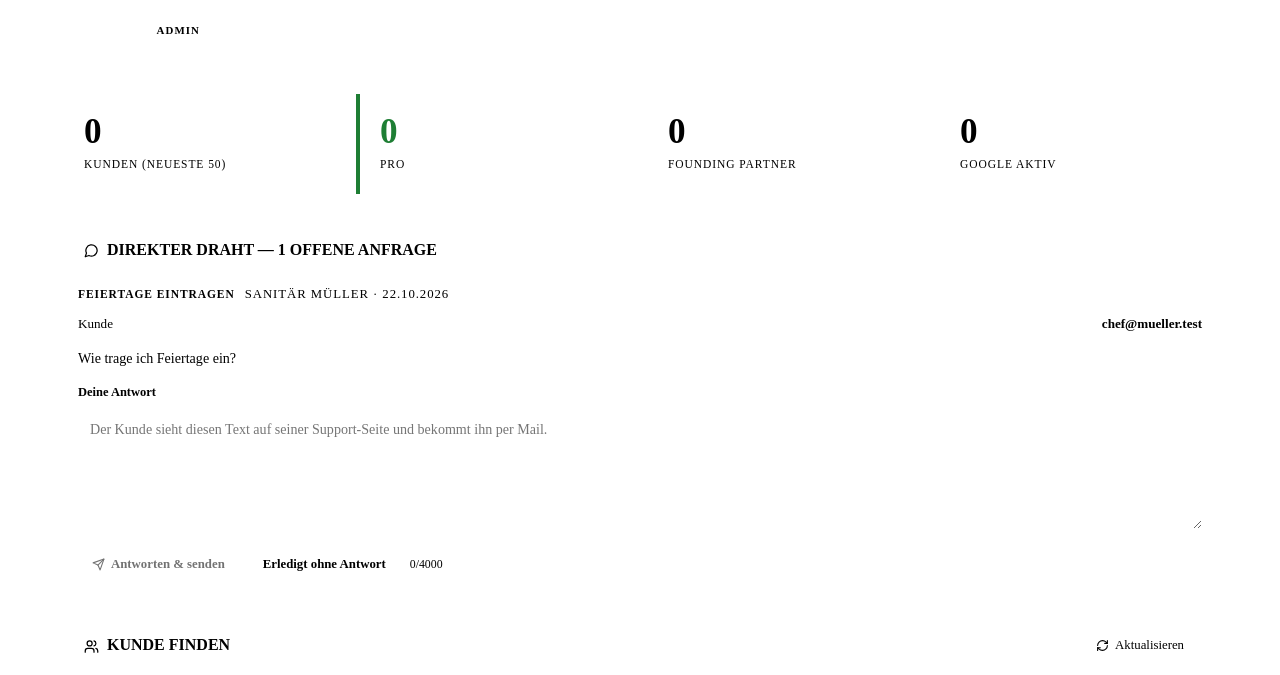
Test: Admin — Antwort auf Supportanfrage › lässt bei einem Fehler den Entwurf stehen und die Anfrage in "offen"
Expected: the element with test id "admin-support" is shown, [64,226,1216,596]
Replace the text in the text box labelled "Deine Antwort" with "Mein Entwurf": (640, 469) [78,409,1202,529]
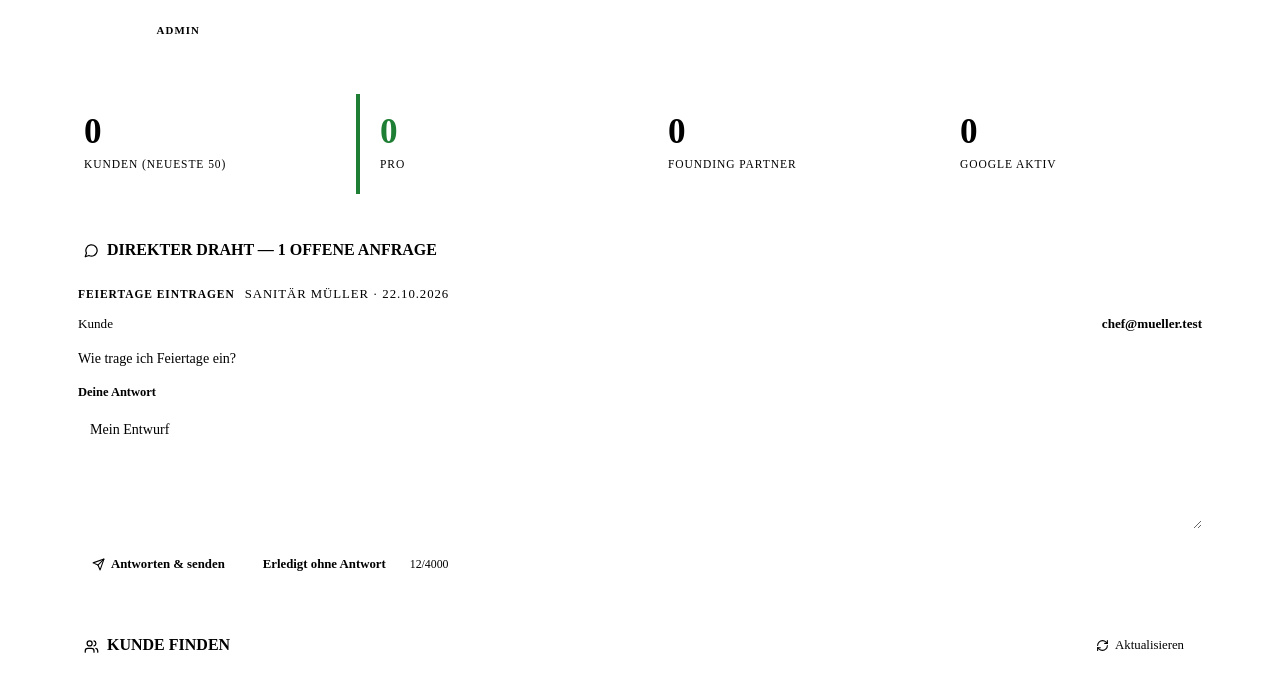
Click the button "Antworten & senden": (158, 564) [78,547,239,582]
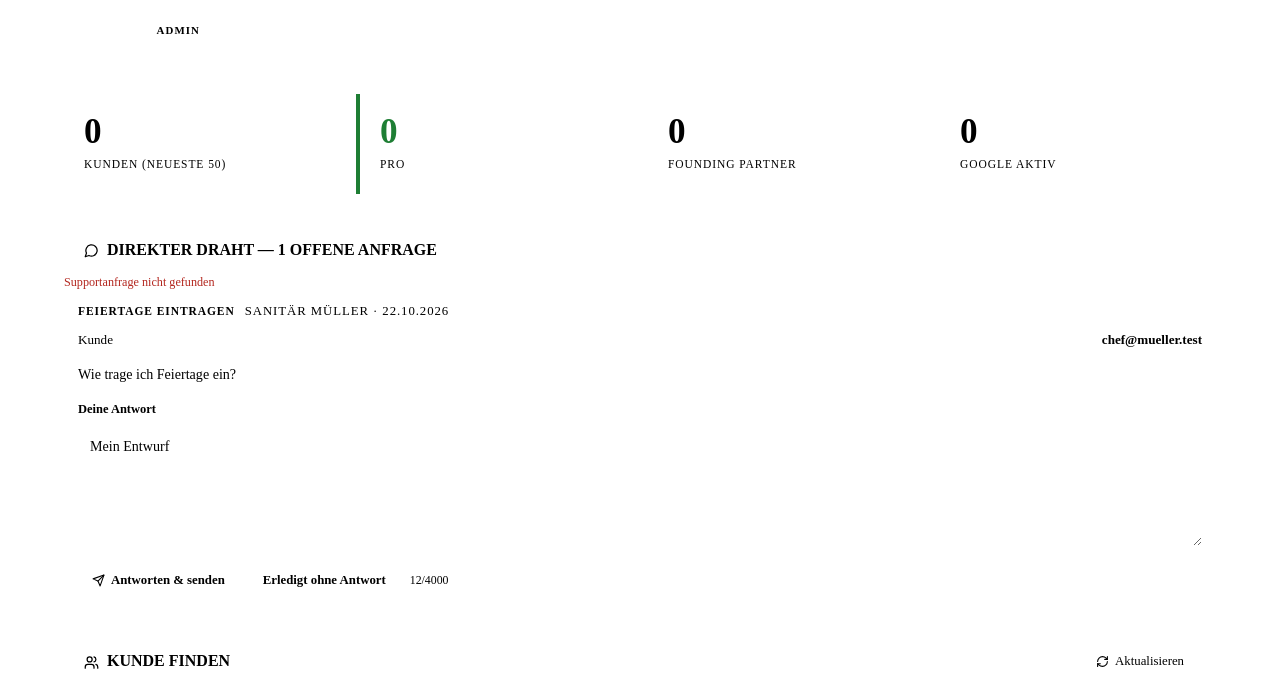
Expected: the text "Wie trage ich Feiertage ein?" is shown, [78,366,236,382]
Result: the message "Supportanfrage nicht gefunden" is shown at [64,276,215,290]
